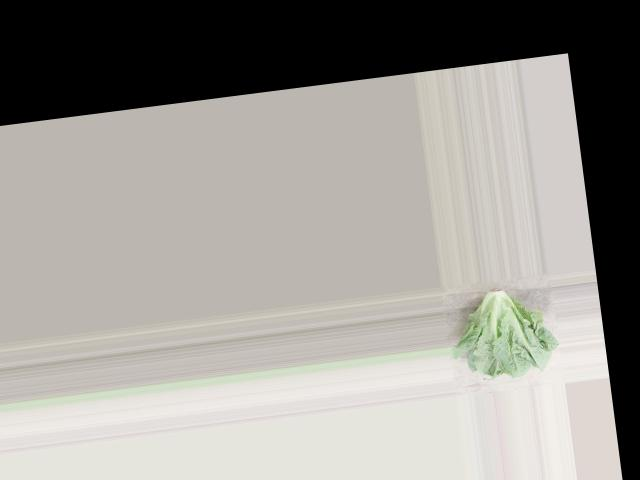lettuce: (444, 276, 559, 387)
